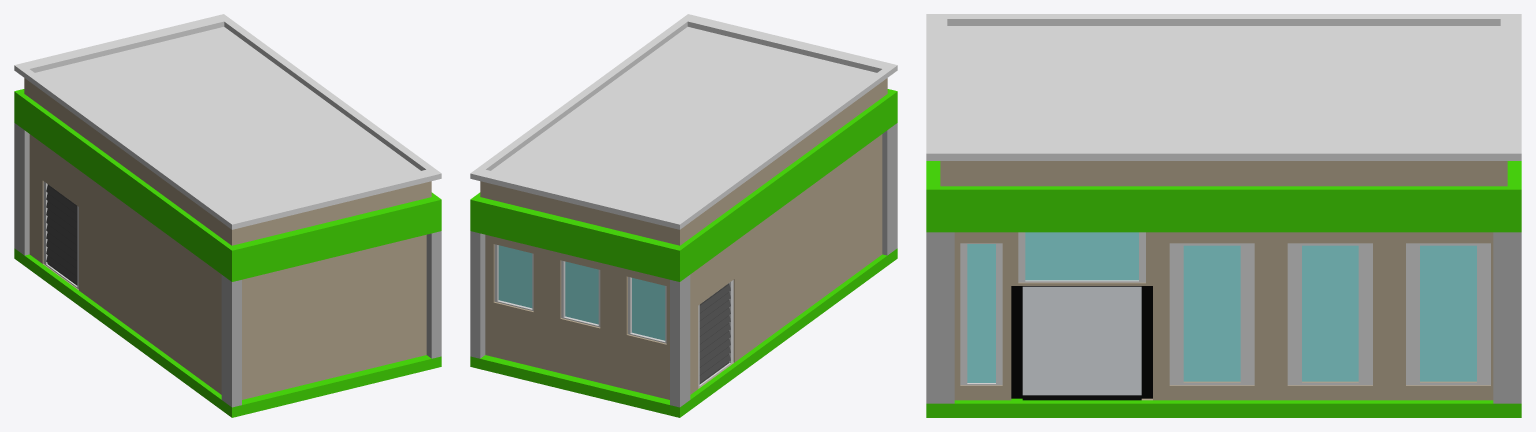
Rendered from building9.fbx.
3 renders of one model, left to right at view 1: azimuth 30°, elevation 25°; view 2: azimuth 150°, elevation 25°; view 3: azimuth 270°, elevation 25°, orthographic. The views are drawn at different scales.
Visible parts, largest first — view 1: building_015; view 2: building_015; view 3: building_015.
Boxes of the visible parts, <box> form: building_015: <box>14,14,441,417</box>; building_015: <box>470,14,897,417</box>; building_015: <box>926,14,1521,417</box>.
Bounding box in the file's own units: 10.5 × 9.25 × 18.9.
